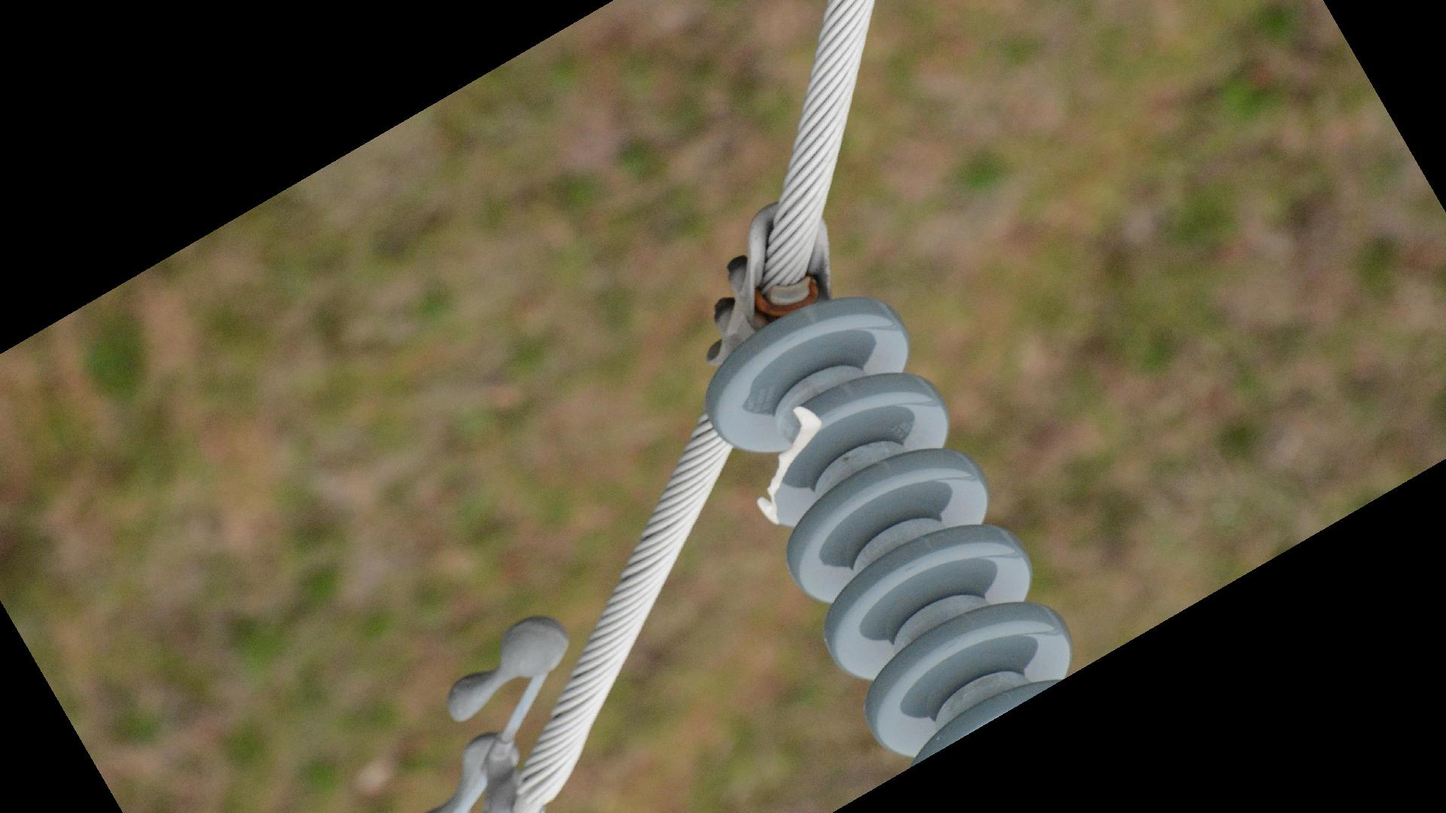insulator: (699, 290, 1083, 766)
insulator_breakage: (754, 398, 827, 529)
